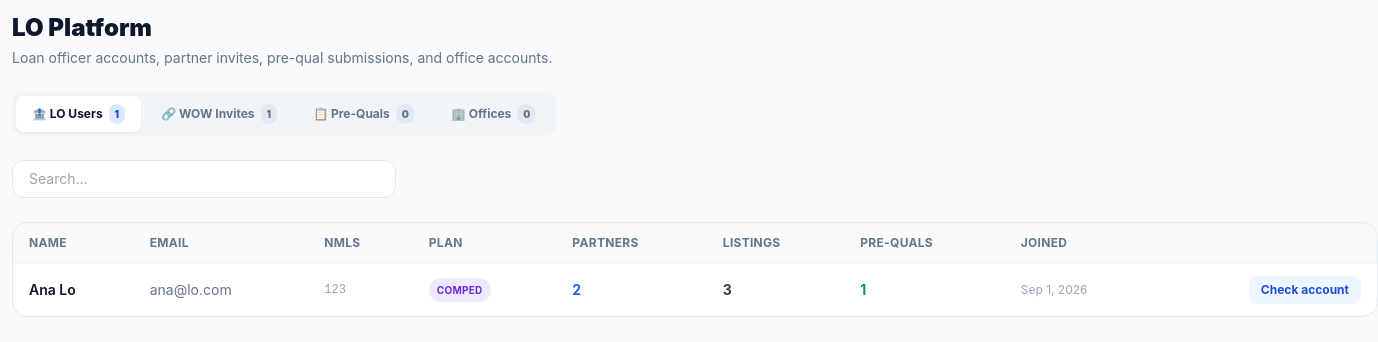
AdminLOPage › shows who sent each invite and how many times it was viewed
Expected: the text "Ana Lo" is shown, [13,264,134,316]
Click the button "🔗 WOW Invites 1": (219, 114) [145,96,293,132]
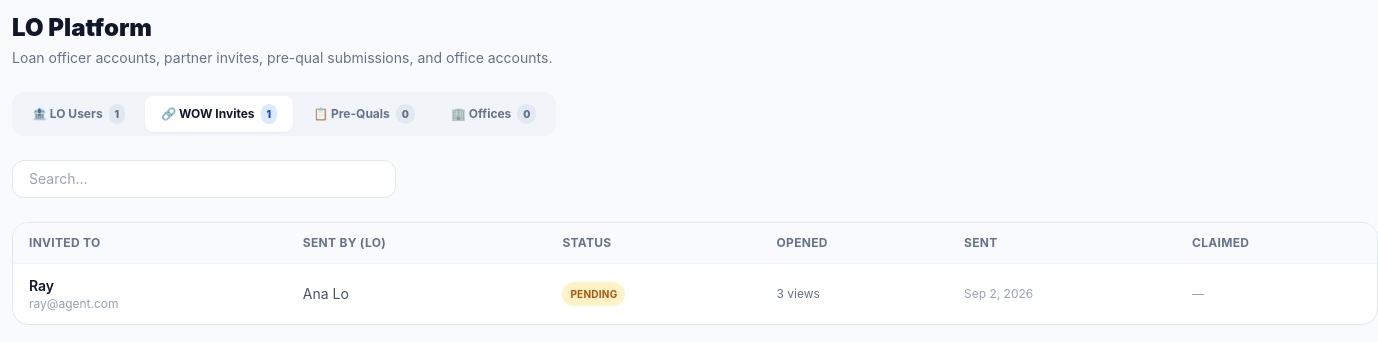
Expected: the text "Ana Lo" is shown, [287,264,546,324]
Expected: the text "3 views" is shown, [761,264,948,324]
